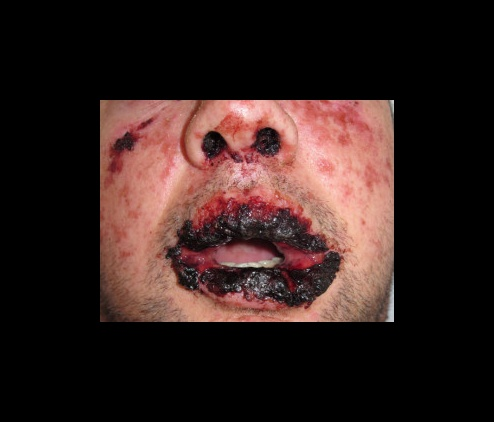SJS-TEN: (159, 170, 356, 317), (86, 90, 167, 196), (194, 106, 289, 178)
